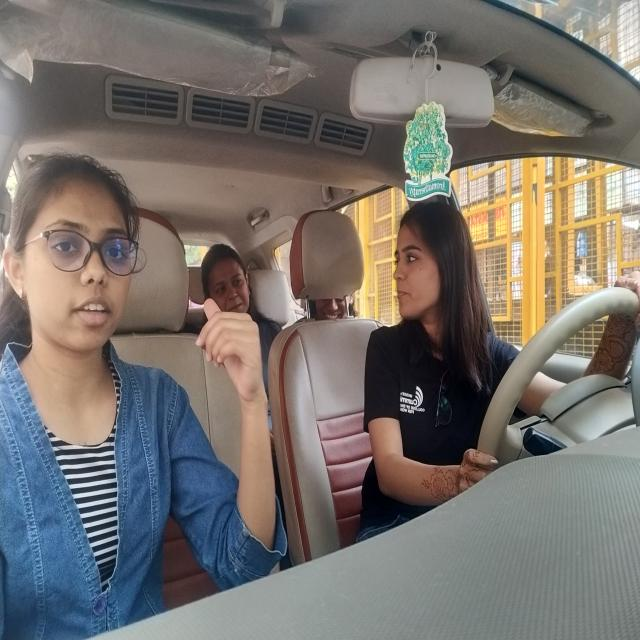LeftRight: (394, 200, 482, 344)
person: (9, 155, 146, 364), (202, 238, 252, 317), (306, 292, 350, 321)
